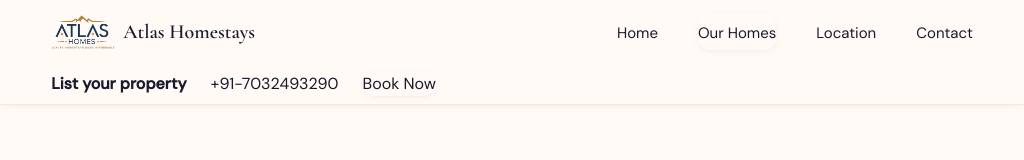
Scenario: Navbar CTA › smoothly scrolls to and focuses the booking form on property detail pages
Click the button "Book Now". click: (399, 84)
box: [362,72,436,96]
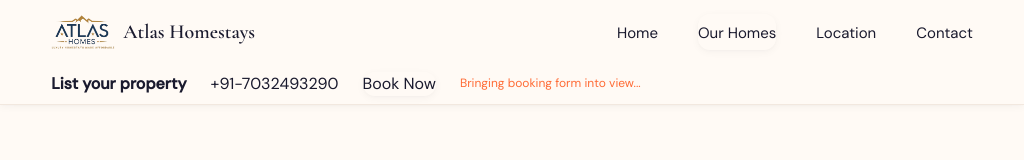
Expected: the text "Bringing booking form into view..." is shown, [460,77,641,91]
